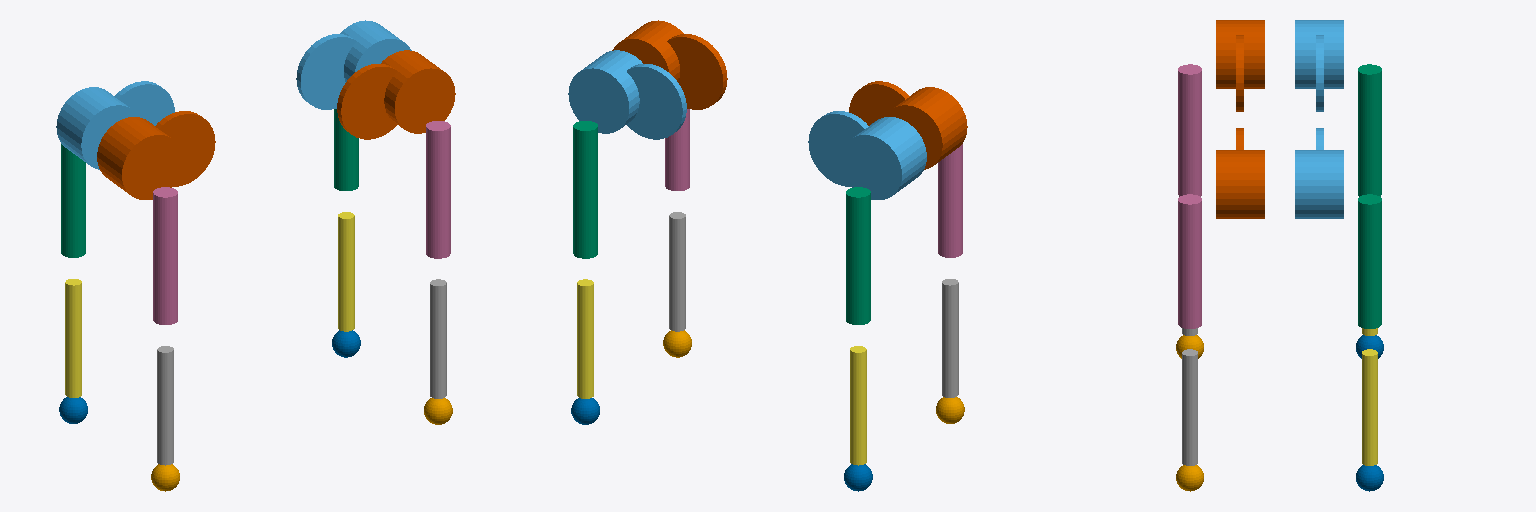
URDF robot description (mini_cheetah):
<?xml version="1.0" ?>
<robot name="mini_cheetah" xmlns:xacro="http://ros.org/wiki/xacro">



<!--!!!!!!!!!!!!!!!!!!BODY!!!!!!!!!!!!!!!!!!!!!!!!!!!!!!!-->
  <link name="body">
        <inertial>
            <mass value="3.3"/>
            <origin xyz="0.0 0.0 0.0"/>
            <inertia ixx="0.011253" ixy="0" ixz="0" iyy="0.036203" iyz="0" izz="0.042673"/>
        </inertial>
        <visual>
            <geometry>
              <mesh filename="meshes/mini_body.stl"/>
	        <!-- <box size="0.23 0.18 0.1"/>x` -->
            </geometry>
            <origin rpy="0.0 0.0 0.0" xyz="0.0 0.0 0.0"/>
        </visual>
        <collision>
            <geometry>
              <!--mesh filename="meshes/mini_body.stl"/-->
	      <box size="0.23 0.18 0.1"/>
            </geometry>
            <origin rpy="0 0 0" xyz="0 0 0"/>
        </collision>
    </link>



<!--!!!!!!!!!!!! Front Left Leg !!!!!!!!!!!!!!!!!!!!!!!!!!!!!!!!!!!!-->
    <joint name="torso_to_abduct_fl_j" type="continuous">
        <axis xyz="1 0 0"/>
        <origin rpy="0 0 0" xyz="0.19 0.049 0.0"/>
        <parent link="body"/>
        <child link="abduct_fl"/>
	<limit effort="18" lower="-1.6" upper="1.6" velocity="40"/>
    </joint>
    <link name="abduct_fl">
        <inertial>
            <mass value="0.54"/>
            <origin xyz="0.0 0.036 0."/>
            <inertia ixx="0.000381" ixy="0.000058" ixz="0.00000045" 
                iyy="0.000560" iyz="0.00000095" izz="0.000444"/>
        </inertial>
        <visual>
            <geometry>
              <!--mesh filename="meshes/mini_abad.stl"/-->
	      <cylinder length ="0.01" radius = "0.0475"/>
            </geometry>
            <origin rpy="0. 1.5708 -1.5708" xyz="-0.055 0.0 0.0"/>
        </visual>
	<visual>
            <geometry>
              <!--mesh filename="meshes/mini_abad.stl"/-->
	      <cylinder length ="0.06" radius = "0.0425"/>
            </geometry>
            <!--origin rpy="3.141592 0.0 1.5708" xyz="-0.055 0.0 0.0"/-->
	    <origin rpy="1.5708 0.0 0.0" xyz="0.0 0.0 0.0"/>
        </visual>
        <collision>
            <geometry>
              <!--mesh filename="meshes/mini_abad.stl"/-->
	      <cylinder length ="0.01" radius = "0.0475"/>
            </geometry>
            <!--origin rpy="0 0 -1.5708" xyz="-0.055 0 0"/-->
	    <origin rpy="0 1.5708 -1.5708" xyz="-0.055 0.0 0.0"/>
        </collision>
	<collision>
            <geometry>
              <!--mesh filename="meshes/mini_abad.stl"/-->
	      <cylinder length ="0.06" radius = "0.0425"/>
            </geometry>
            <!--origin rpy="0 0 -1.5708" xyz="-0.055 0 0"/-->
	    <origin rpy="1.5708 0.0 0.0" xyz="0.0 0.0 0.0"/>
        </collision>
    </link>

    <joint name="abduct_fl_to_thigh_fl_j" type="continuous">
        <axis xyz="0 -1 0"/>
        <origin rpy="0.0 0.0 0.0" xyz="0.0 0.062 0.00"/>
        <parent link="abduct_fl"/>
        <child link="thigh_fl"/>
	<limit effort="18" lower="-2.6" upper="2.6" velocity="40"/>
    </joint>
    <link name="thigh_fl">
        <inertial>
            <mass value="0.634"/>
            <origin xyz="0.0 0.016 -0.02"/>
            <inertia ixx="0.001983" ixy="0.000245" ixz="0.000013" 
                iyy="0.002103" iyz="0.0000015" izz="0.000408"/>
        </inertial>
        <visual>
            <geometry>
              <!--mesh filename="meshes/mini_upper_link.stl"/-->
	      <cylinder length ="0.17" radius = "0.015"/>
            </geometry>
            <origin rpy="0.0 0.0 0.0" xyz="0.0 0.0 -0.105"/>
        </visual>
        <collision>
            <geometry>
              <!--mesh filename="meshes/mini_upper_link.stl"/-->
	      <cylinder length ="0.17" radius = "0.015"/>
            </geometry>
            <origin rpy="0.0 0.0 0.0" xyz="0.0 0.0 -0.105"/>
        </collision>
    </link>

    <joint name="thigh_fl_to_knee_fl_j" type="continuous">
        <axis xyz="0 -1 0"/>
        <origin rpy="0.0 0 0.0" xyz="0.0 0.0 -0.209"/>
        <parent link="thigh_fl"/>
        <child link="shank_fl"/>
	<limit effort="26" lower="-2.6" upper="2.6" velocity="26"/>
    </joint>
    <link name="shank_fl">
        <inertial>
            <mass value="0.064"/>
            <origin xyz="0.0 0.0 -0.209"/>
            <inertia ixx="0.000245" ixy="0" ixz="0.0" iyy="0.000248" iyz="0" izz="0.000006"/>
        </inertial>
        <visual>
            <geometry>
              <!--mesh filename="meshes/mini_lower_link.stl"/-->
	      <cylinder length ="0.15" radius = "0.01"/>
            </geometry>
            <origin rpy="0.0 3.141592 0.0" xyz="0.0 0.0 -0.095"/>
        </visual>
        <collision>
            <geometry>
              <!--mesh filename="meshes/mini_lower_link.stl"/-->
	      <cylinder length ="0.15" radius = "0.01"/>
            </geometry>
            <origin rpy="0.0 3.141592 0.0" xyz="0 0 -0.095"/>
        </collision>
    </link>
    <!-- Adapter to Foot joint -->
    <joint name="fixed_shank_to_foot" type="fixed">
        <parent link="shank_fl"/>
        <child link="foot_fl"/>
        <origin rpy="0.0 0.0 0.0" xyz="0.0 0.0 -0.19"/>
    </joint>
    <link name="foot_fl">
	<visual>
            <geometry>
              <sphere radius = "0.0175"/>
            </geometry>
            <origin rpy="0.0 3.141592 0.0" xyz="0.0 0.0 0.0"/>
        </visual>
	<collision>
            <geometry>
              <!--mesh filename="meshes/mini_lower_link.stl"/-->
	      <sphere radius = "0.0175"/>
            </geometry>
            <origin rpy="0.0 3.141592 0.0" xyz="0 0 0"/>
        </collision>
    </link>
	


    
    <!--!!!!!!!!!!!! Front Right Leg !!!!!!!!!!!!!!!!!!!!!!!!!!!!!!!!!!!!-->

    <!--!!!!Joint!!!!!!!!!!!!-->
    <joint name="torso_to_abduct_fr_j" type="continuous">
        <axis xyz="1 0 0"/>
        <origin rpy="0 0 0" xyz="0.19 -0.049 0.0"/>
        <parent link="body"/>
        <child link="abduct_fr"/>
	<limit effort="18" lower="-1.6" upper="1.6" velocity="40"/>
    </joint>
    <link name="abduct_fr">
        <inertial>
            <mass value="0.54"/>
            <origin xyz="0.0 0.036 0."/>
            <inertia ixx="0.000381" ixy="0.000058" ixz="0.00000045" 
                iyy="0.000560" iyz="0.00000095" izz="0.000444"/>
        </inertial>
        <visual>
            <geometry>
              <!--mesh filename="meshes/mini_abad.stl"/-->
	      <cylinder length ="0.01" radius = "0.0475"/>
            </geometry>
            <!--origin rpy="3.141592 0.0 1.5708" xyz="-0.055 0.0 0.0"/-->
	    <origin rpy="3.141592 1.5708 1.5708" xyz="-0.055 0.0 0.0"/>
        </visual>
	<visual>
            <geometry>
              <!--mesh filename="meshes/mini_abad.stl"/-->
	      <cylinder length ="0.06" radius = "0.0425"/>
            </geometry>
            <!--origin rpy="3.141592 0.0 1.5708" xyz="-0.055 0.0 0.0"/-->
	    <origin rpy="1.5708 0.0 0.0" xyz="0.0 0.0 0.0"/>
        </visual>
        <collision>
            <geometry>
              <!--mesh filename="meshes/mini_abad.stl"/-->
	      <cylinder length ="0.01" radius = "0.0475"/>
            </geometry>
            <origin rpy="3.141592 1.5708 1.5708" xyz="-0.055 0 0"/>
        </collision>
	<collision>
            <geometry>
              <!--mesh filename="meshes/mini_abad.stl"/-->
	      <cylinder length ="0.06" radius = "0.0425"/>
            </geometry>
            <origin rpy="1.5708 0.0 0.0" xyz="-0.055 0 0"/>
        </collision>
    </link>

    <joint name="abduct_fr_to_thigh_fr_j" type="continuous">
        <axis xyz="0 -1 0"/>
        <origin rpy="0.0 0.0 0.0" xyz="0.0 -0.062 0.00"/>
        <parent link="abduct_fr"/>
        <child link="thigh_fr"/>
	<limit effort="18" lower="-2.6" upper="2.6" velocity="40"/>
    </joint>
    <link name="thigh_fr">
        <inertial>
            <mass value="0.634"/>
            <origin xyz="0.0 0.016 -0.02"/>
            <inertia ixx="0.001983" ixy="0.000245" ixz="0.000013" 
                iyy="0.002103" iyz="0.0000015" izz="0.000408"/>
        </inertial>
        <visual>
            <geometry>
              <!--mesh filename="meshes/mini_upper_link.stl"/-->
	      <cylinder length ="0.17" radius = "0.015"/>
            </geometry>
            <origin rpy="0.0 0.0 0.0" xyz="0.0 0.0 -0.105"/>
        </visual>
        <collision>
            <geometry>
              <!--mesh filename="meshes/mini_upper_link.stl"/-->
	      <cylinder length ="0.17" radius = "0.015"/>
            </geometry>
            <origin rpy="0.0 0.0 0.0" xyz="0.0 0.0 -0.105"/>
        </collision>
    </link>

    <joint name="thigh_fr_to_knee_fr_j" type="continuous">
        <axis xyz="0 -1 0"/>
        <origin rpy="0.0 0 0.0" xyz="0.0 0.0 -0.209"/>
        <parent link="thigh_fr"/>
        <child link="shank_fr"/>
	<limit effort="26" lower="-2.6" upper="2.6" velocity="26"/>
    </joint>
    <link name="shank_fr">
        <inertial>
            <mass value="0.064"/>
            <origin xyz="0.0 0.0 -0.209"/>
            <inertia ixx="0.000245" ixy="0" ixz="0.0" iyy="0.000248" iyz="0" izz="0.000006"/>
        </inertial>
        <visual>
            <geometry>
              <!--mesh filename="meshes/mini_lower_link.stl"/-->
	      <cylinder length ="0.15" radius = "0.01"/>
            </geometry>
            <origin rpy="0.0 3.141592 0.0" xyz="0.0 0.0 -0.095"/>
        </visual>
        <collision>
            <geometry>
              <!--mesh filename="meshes/mini_lower_link.stl"/-->
	      <cylinder length ="0.15" radius = "0.01"/>
            </geometry>
            <origin rpy="0.0 3.141592 0.0" xyz="0.0 0.0 -0.095"/>
        </collision>
    </link>

    <!-- Adapter to Foot joint -->
    <joint name="fixed_shank_to_foot_fr" type="fixed">
        <parent link="shank_fr"/>
        <child link="foot_fr"/>
        <origin rpy="0.0 0.0 0.0" xyz="0.0 0.0 -0.19"/>
    </joint>

    <link name="foot_fr">
	<visual>
            <geometry>
              <sphere radius = "0.0175"/>
            </geometry>
            <origin rpy="0.0 3.141592 0.0" xyz="0.0 0.0 0.0"/>
        </visual>
	<collision>
            <geometry>
              <!--mesh filename="meshes/mini_lower_link.stl"/-->
	       <sphere radius = "0.0175"/>
            </geometry>
            <origin rpy="0.0 3.141592 0" xyz="0.0 0.0 0"/>
        </collision>
    </link>
	



<!--!!!!!!!!!!!! Hind Left Leg !!!!!!!!!!!!!!!!!!!!!!!!!!!!!!!!!!!!-->
    <joint name="torso_to_abduct_hl_j" type="continuous">
        <axis xyz="1 0 0"/>
        <origin rpy="0 0 0" xyz="-0.19 0.049 0.0"/>
        <parent link="body"/>
        <child link="abduct_hl"/>
	<limit effort="18" lower="-1.6" upper="1.6" velocity="40"/>
    </joint>
    <link name="abduct_hl">
        <inertial>
            <mass value="0.54"/>
            <origin xyz="0.0 0.036 0."/>
            <inertia ixx="0.000381" ixy="0.000058" ixz="0.00000045" 
                iyy="0.000560" iyz="0.00000095" izz="0.000444"/>
        </inertial>
        <visual>
            <geometry>
              <!--mesh filename="meshes/mini_abad.stl"/-->
	      <cylinder length ="0.01" radius = "0.0475"/>
            </geometry>
            <!--origin rpy="3.141592 0.0 -1.5708" xyz="0.055 0.0 0.0"/-->
	    <origin rpy="3.141592 1.5708 -1.5708" xyz="0.055 0.0 0.0"/>
        </visual>
	<visual>
            <geometry>
              <!--mesh filename="meshes/mini_abad.stl"/-->
	      <cylinder length ="0.06" radius = "0.0425"/>
            </geometry>
            <!--origin rpy="3.141592 0.0 1.5708" xyz="-0.055 0.0 0.0"/-->
	    <origin rpy="1.5708 0.0 0.0" xyz="0.0 0.0 0.0"/>
        </visual>
        <collision>
            <geometry>
              <!--mesh filename="meshes/mini_abad.stl"/-->
	      <cylinder length ="0.01" radius = "0.0475"/>
            </geometry>
            <origin rpy="3.141592 1.5708 -1.5708" xyz="0.055 0 0"/>
        </collision>
	<collision>
            <geometry>
              <!--mesh filename="meshes/mini_abad.stl"/-->
	      <cylinder length ="0.06" radius = "0.0425"/>
            </geometry>
            <origin rpy="1.5708 0.0 0.0" xyz="0.0 0.0 0.0"/>
        </collision>
    </link>

    <joint name="abduct_hl_to_thigh_hl_j" type="continuous">
        <axis xyz="0 -1 0"/>
        <origin rpy="0.0 0.0 0.0" xyz="0.0 0.062 0.00"/>
        <parent link="abduct_hl"/>
        <child link="thigh_hl"/>
	<limit effort="18" lower="-2.6" upper="2.6" velocity="40"/>
    </joint>
    <link name="thigh_hl">
        <inertial>
            <mass value="0.634"/>
            <origin xyz="0.0 0.016 -0.02"/>
            <inertia ixx="0.001983" ixy="0.000245" ixz="0.000013" 
                iyy="0.002103" iyz="0.0000015" izz="0.000408"/>
        </inertial>
        <visual>
            <geometry>
              <!--mesh filename="meshes/mini_upper_link.stl"/-->
	      <cylinder length ="0.17" radius = "0.015"/>
            </geometry>
            <origin rpy="0.0 0.0 0.0" xyz="0.0 0.0 -0.105"/>
        </visual>
        <collision>
            <geometry>
              <!--mesh filename="meshes/mini_upper_link.stl"/-->
	      <cylinder length ="0.17" radius = "0.015"/>
            </geometry>
            <origin rpy="0.0 0.0 0.0" xyz="0.0 0.0 -0.105"/>
        </collision>
    </link>

    <joint name="thigh_hl_to_knee_hl_j" type="continuous">
        <axis xyz="0 -1 0"/>
        <origin rpy="0.0 0 0.0" xyz="0.0 0.0 -0.209"/>
        <parent link="thigh_hl"/>
        <child link="shank_hl"/>
	<limit effort="26" lower="-2.6" upper="2.6" velocity="26"/>
    </joint>
    <link name="shank_hl">
        <inertial>
            <mass value="0.064"/>
            <origin xyz="0.0 0.0 -0.209"/>
            <inertia ixx="0.000245" ixy="0" ixz="0.0" iyy="0.000248" iyz="0" izz="0.000006"/>
        </inertial>
        <visual>
            <geometry>
              <!--mesh filename="meshes/mini_lower_link.stl"/-->
	      <cylinder length ="0.15" radius = "0.01"/>
            </geometry>
            <origin rpy="0.0 3.141592 0.0" xyz="0.0 0.0 -0.095"/>
        </visual>
        <collision>
            <geometry>
              <!--mesh filename="meshes/mini_lower_link.stl"/-->
	      <cylinder length ="0.15" radius = "0.01"/>
            </geometry>
            <origin rpy="0.0 3.141592 0.0" xyz="0.0 0.0 -0.095"/>
        </collision>
    </link>

    <!-- Adapter to Foot joint -->
    <joint name="fixed_shank_to_foot_hl" type="fixed">
        <parent link="shank_hl"/>
        <child link="foot_hl"/>
        <origin rpy="0.0 0.0 0.0" xyz="0.0 0.0 -0.19"/>
    </joint>

    <link name="foot_hl">
	<visual>
            <geometry>
              <sphere radius = "0.0175"/>
            </geometry>
            <origin rpy="0.0 3.141592 0.0" xyz="0.0 0.0 0.0"/>
        </visual>
	<collision>
            <geometry>
              <!--mesh filename="meshes/mini_lower_link.stl"/-->
	       <sphere radius = "0.0175"/>
            </geometry>
            <origin rpy="0.0 3.141592 0" xyz="0.0 0.0 0"/>
        </collision>
    </link>

    
<!--!!!!!!!!!!!! Hind Right Leg !!!!!!!!!!!!!!!!!!!!!!!!!!!!!!!!!!!!-->
    <joint name="torso_to_abduct_hr_j" type="continuous">
        <axis xyz="1 0 0"/>
        <origin rpy="0 0 0" xyz="-0.19 -0.049 0.0"/>
        <parent link="body"/>
        <child link="abduct_hr"/>
	<limit effort="18" lower="-1.6" upper="1.6" velocity="40"/>
    </joint>
    <link name="abduct_hr">
        <inertial>
            <mass value="0.54"/>
            <origin xyz="0.0 0.036 0."/>
            <inertia ixx="0.000381" ixy="0.000058" ixz="0.00000045" 
                iyy="0.000560" iyz="0.00000095" izz="0.000444"/>
        </inertial>
        <visual>
            <geometry>
              <!--mesh filename="meshes/mini_abad.stl"/-->
	      <cylinder length ="0.01" radius = "0.0475"/>
            </geometry>
            <!--origin rpy="0.0 0.0 1.5708" xyz="0.055 0.0 0.0"/-->
	    <origin rpy="0.0 1.5708 1.5708" xyz="0.055 0.0 0.0"/>
        </visual>
	<visual>
            <geometry>
              <!--mesh filename="meshes/mini_abad.stl"/-->
	      <cylinder length ="0.06" radius = "0.0425"/>
            </geometry>
            <!--origin rpy="3.141592 0.0 1.5708" xyz="-0.055 0.0 0.0"/-->
	    <origin rpy="1.5708 0.0 0.0" xyz="0.0 0.0 0.0"/>
        </visual>
        <collision>
            <geometry>
              <!--mesh filename="meshes/mini_abad.stl"/-->
	      <cylinder length ="0.01" radius = "0.0475"/>
            </geometry>
            <origin rpy="0.0 1.5708 1.5708" xyz="0.055 0.0 0.0"/>
        </collision>
	<collision>
            <geometry>
              <!--mesh filename="meshes/mini_abad.stl"/-->
	      <cylinder length ="0.06" radius = "0.0425"/>
            </geometry>
            <origin rpy="1.5708 0.0 0.0" xyz="0.0 0.0 0.0"/>
        </collision>
    </link>

    <joint name="abduct_hr_to_thigh_hr_j" type="continuous">
        <axis xyz="0 -1 0"/>
        <origin rpy="0.0 0.0 0.0" xyz="0.0 -0.062 0.00"/>
        <parent link="abduct_hr"/>
        <child link="thigh_hr"/>
	<limit effort="18" lower="-2.6" upper="2.6" velocity="40"/>
    </joint>
    <link name="thigh_hr">
        <inertial>
            <mass value="0.634"/>
            <origin xyz="0.0 0.016 -0.02"/>
            <inertia ixx="0.001983" ixy="0.000245" ixz="0.000013" 
                iyy="0.002103" iyz="0.0000015" izz="0.000408"/>
        </inertial>
        <visual>
            <geometry>
              <!--mesh filename="meshes/mini_upper_link.stl"/-->
	      <cylinder length ="0.17" radius = "0.015"/>
            </geometry>
            <origin rpy="0.0 0.0 0.0" xyz="0.0 0.0 -0.105"/>
        </visual>
        <collision>
            <geometry>
              <!--mesh filename="meshes/mini_upper_link.stl"/-->
	      <cylinder length ="0.17" radius = "0.015"/>
            </geometry>
            <origin rpy="0.0 0.0 0.0" xyz="0.0 0.0 -0.105"/>
        </collision>
    </link>

    <joint name="thigh_hr_to_knee_hr_j" type="continuous">
        <axis xyz="0 -1 0"/>
        <origin rpy="0.0 0 0.0" xyz="0.0 0.0 -0.209"/>
        <parent link="thigh_hr"/>
        <child link="shank_hr"/>
	<limit effort="26" lower="-2.6" upper="2.6" velocity="26"/>
    </joint>
    <link name="shank_hr">
        <inertial>
            <mass value="0.064"/>
            <origin xyz="0.0 0.0 -0.209"/>
            <inertia ixx="0.000245" ixy="0" ixz="0.0" iyy="0.000248" iyz="0" izz="0.000006"/>
        </inertial>
        <visual>
            <geometry>
              <!--mesh filename="meshes/mini_lower_link.stl"/-->
	      <cylinder length ="0.15" radius = "0.01"/>
            </geometry>
            <origin rpy="0.0 3.141592 0.0" xyz="0.0 0.0 -0.095"/>
        </visual>
        <collision>
            <geometry>
              <!--mesh filename="meshes/mini_lower_link.stl"/-->
	      <cylinder length ="0.15" radius = "0.01"/>
            </geometry>
            <origin rpy="0.0 3.141592 0.0" xyz="0 0 -0.095"/>
        </collision>

    </link>

    <!-- Adapter to Foot joint -->
    <joint name="fixed_shank_to_foot_hr" type="fixed">
        <parent link="shank_hr"/>
        <child link="foot_hr"/>
        <origin rpy="0.0 0.0 0.0" xyz="0.0 0.0 -0.19"/>
    </joint>

    <link name="foot_hr">
	<visual>
            <geometry>
              <sphere radius = "0.0175"/>
            </geometry>
            <origin rpy="0.0 3.141592 0.0" xyz="0.0 0.0 0.0"/>
        </visual>
	<collision>
            <geometry>
              <!--mesh filename="meshes/mini_lower_link.stl"/-->
	       <sphere radius = "0.0175"/>
            </geometry>
            <origin rpy="0.0 3.141592 0" xyz="0.0 0.0 0"/>
        </collision>
    </link>

</robot>

--- Facts derived from the render (not from the file) ---
The picture shows the robot from 3 angles, left to right: view 1: azimuth 30°, elevation 25°; view 2: azimuth 150°, elevation 25°; view 3: azimuth 270°, elevation 25°; orthographic projection.
Model mini_cheetah with 17 links and 16 joints (12 continuous, 4 fixed), rooted at body, posed every joint at zero.
Visible links, largest first — view 1: abduct_fr, abduct_hr, abduct_fl, abduct_hl, thigh_hr, thigh_fr, thigh_hl, shank_fr, shank_fl, shank_hr, shank_hl, thigh_fl (+4 smaller); view 2: abduct_fl, abduct_hl, abduct_fr, abduct_hr, thigh_hl, thigh_fl, thigh_hr, shank_fl, shank_fr, shank_hl, shank_hr, thigh_fr (+4 smaller); view 3: abduct_hl, abduct_hr, abduct_fl, abduct_fr, thigh_fl, thigh_fr, thigh_hl, thigh_hr, shank_fl, shank_fr, foot_fl, foot_fr.
Boxes of the visible links, left/top/right/bottom form: abduct_fr: left=337, top=50, right=455, bottom=139; abduct_hr: left=97, top=111, right=215, bottom=199; abduct_fl: left=296, top=20, right=411, bottom=109; abduct_hl: left=56, top=81, right=174, bottom=169; thigh_hr: left=153, top=187, right=177, bottom=324; thigh_fr: left=426, top=121, right=450, bottom=258; thigh_hl: left=61, top=144, right=85, bottom=257; shank_fr: left=430, top=279, right=446, bottom=398; shank_fl: left=338, top=212, right=354, bottom=331; shank_hr: left=157, top=346, right=173, bottom=465; shank_hl: left=65, top=279, right=81, bottom=397; thigh_fl: left=334, top=109, right=358, bottom=190; abduct_fl: left=568, top=50, right=686, bottom=139; abduct_hl: left=808, top=111, right=926, bottom=199; abduct_fr: left=612, top=20, right=727, bottom=109; abduct_hr: left=849, top=81, right=967, bottom=169; thigh_hl: left=846, top=187, right=870, bottom=324; thigh_fl: left=573, top=121, right=597, bottom=258; thigh_hr: left=938, top=144, right=962, bottom=257; shank_fl: left=577, top=279, right=593, bottom=398; shank_fr: left=669, top=212, right=685, bottom=331; shank_hl: left=850, top=346, right=866, bottom=465; shank_hr: left=942, top=279, right=958, bottom=397; thigh_fr: left=665, top=109, right=689, bottom=190; abduct_hl: left=1295, top=20, right=1343, bottom=111; abduct_hr: left=1216, top=20, right=1264, bottom=111; abduct_fl: left=1295, top=128, right=1343, bottom=218; abduct_fr: left=1216, top=128, right=1264, bottom=218; thigh_fl: left=1358, top=194, right=1381, bottom=328; thigh_fr: left=1178, top=194, right=1201, bottom=328; thigh_hl: left=1358, top=64, right=1381, bottom=196; thigh_hr: left=1178, top=64, right=1201, bottom=196; shank_fl: left=1362, top=349, right=1377, bottom=465; shank_fr: left=1182, top=349, right=1197, bottom=465; foot_fl: left=1356, top=465, right=1383, bottom=491; foot_fr: left=1176, top=465, right=1203, bottom=491.
Bounding box of the posed robot: 0.465 × 0.257 × 0.464 m (x, y, z).
Meshes: 1 distinct files referenced, 0 mesh visuals loaded (none loaded); not drawn: 1 (reference not matched to a file when rendering).
